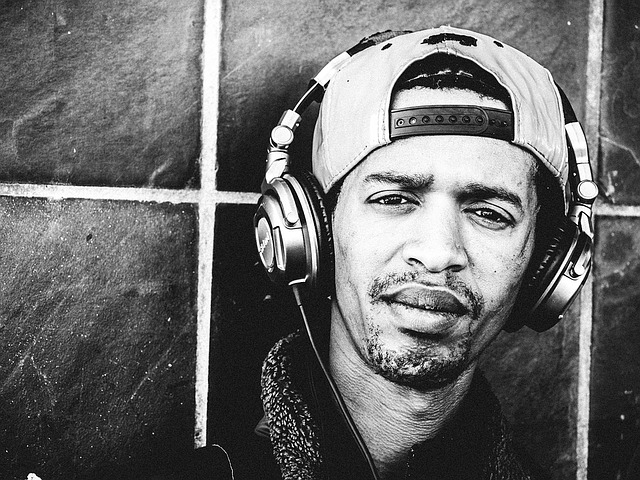headphones: (255, 29, 599, 332)
